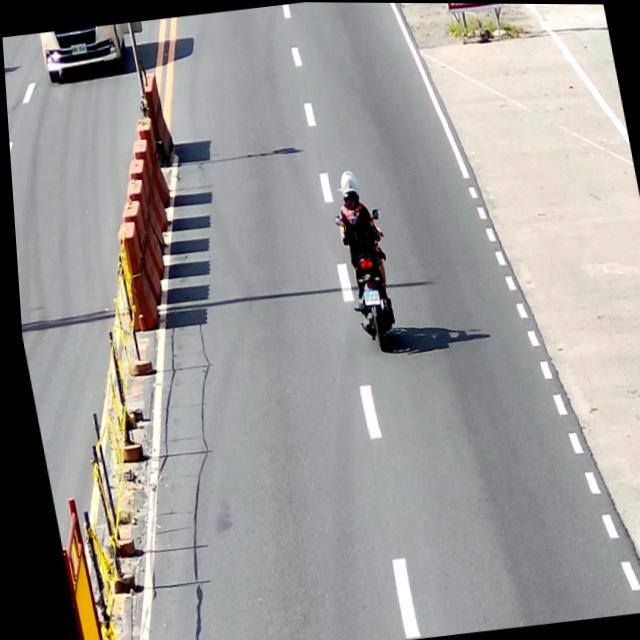Car: (37, 22, 129, 83)
License-Plate: (353, 281, 379, 309), (66, 39, 90, 59)
Motorcycle: (329, 206, 400, 354)
